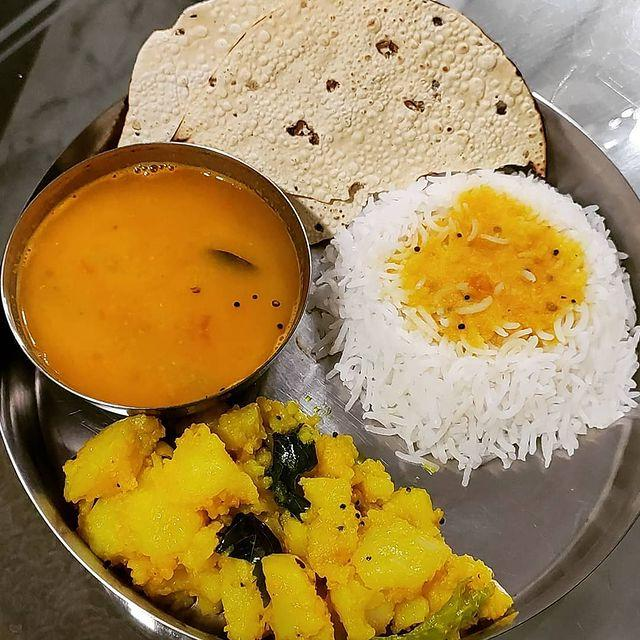Roti: (91, 0, 558, 211)
White Rice: (314, 164, 630, 458)
